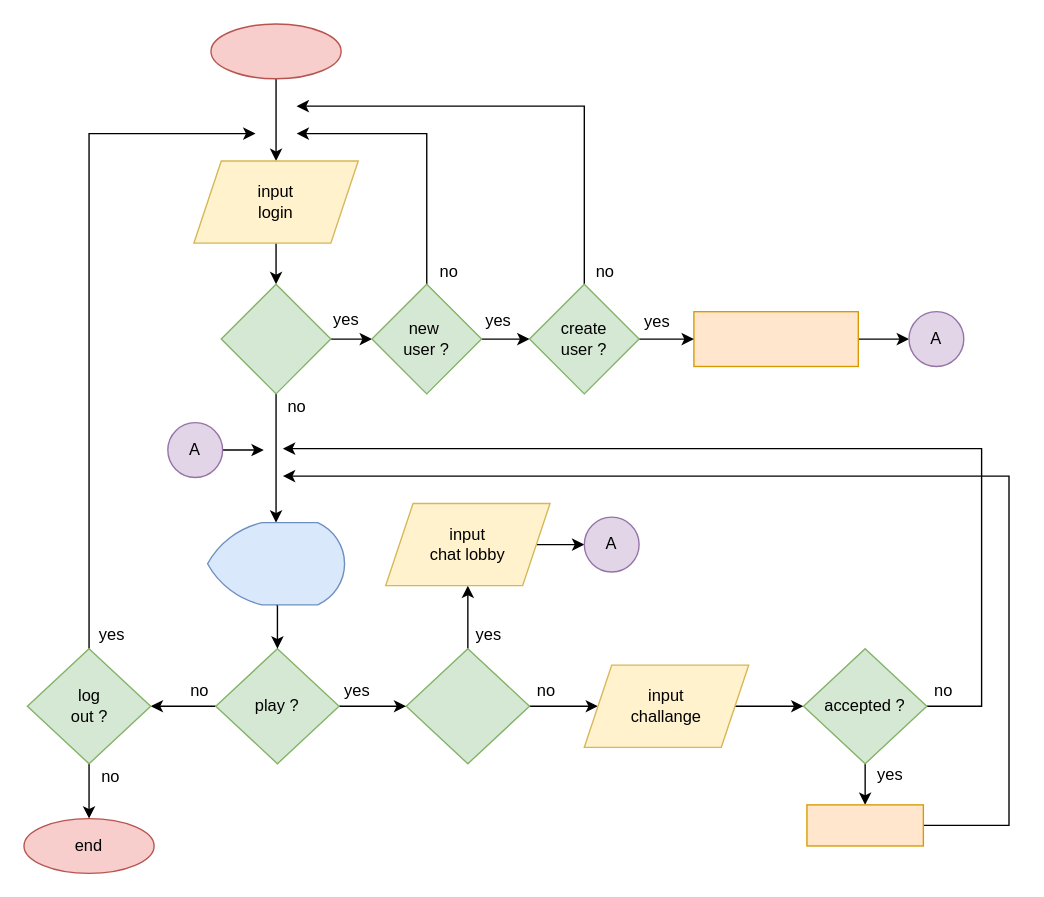
Image size: 1044x897. Some labels were removed from this diagram. The centre of each missing label's shape, as x and y in pixels:
chat lobby: the point at 467,705
create new user: the point at 775,338
fail login ?: the point at 275,338
lobby: the point at 275,563
play game: the point at 864,825
start: the point at 275,51
